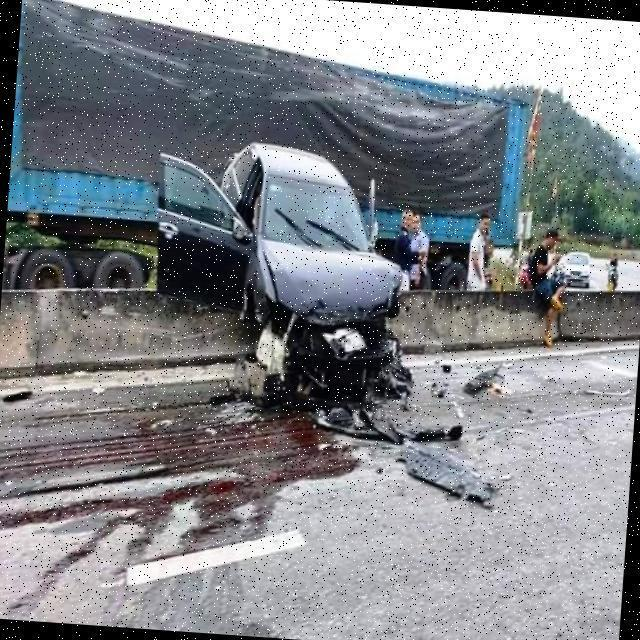accident: (154, 110, 444, 455)
